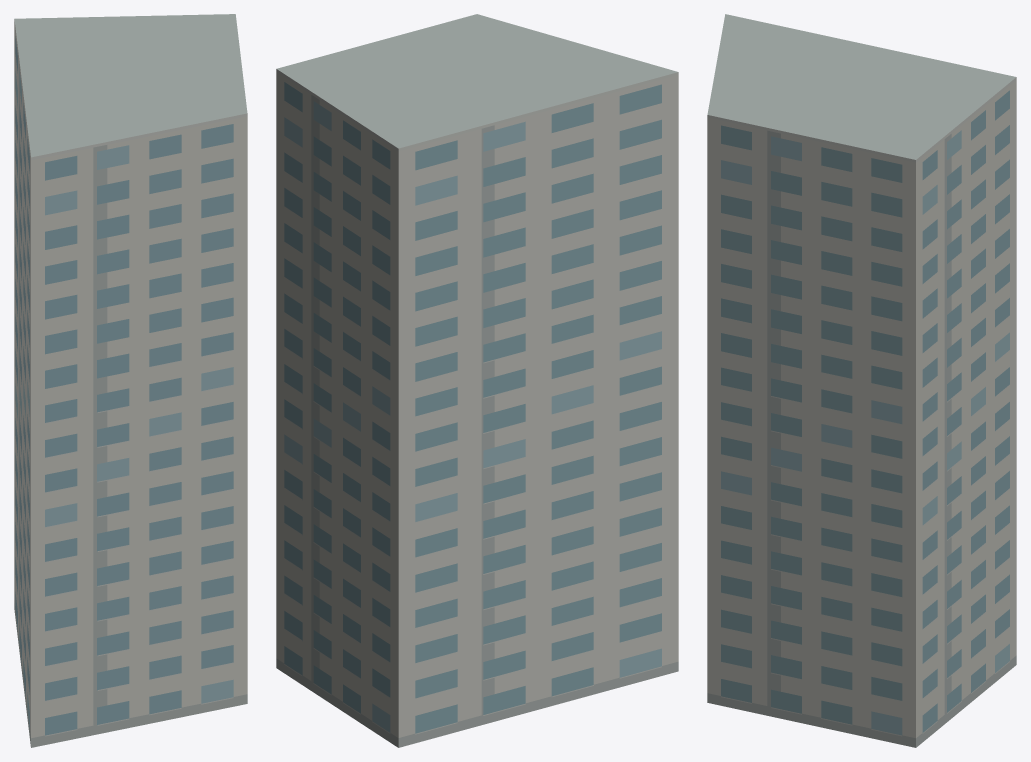
The model's file is residential-212beaba-1430-4b70-a2d1-97096592b359.glb.
3 renders of one model, left to right at view 1: azimuth 30°, elevation 25°; view 2: azimuth 150°, elevation 25°; view 3: azimuth 270°, elevation 25°, orthographic.
Parts seen in each view (by area): view 1: residential-212beaba-1430-4b70-a2d1-97096592b359.tmp; view 2: residential-212beaba-1430-4b70-a2d1-97096592b359.tmp; view 3: residential-212beaba-1430-4b70-a2d1-97096592b359.tmp.
Boxes of the visible parts, x1,y1,x2,y2 form: residential-212beaba-1430-4b70-a2d1-97096592b359.tmp: (14, 14, 247, 747); residential-212beaba-1430-4b70-a2d1-97096592b359.tmp: (276, 14, 678, 747); residential-212beaba-1430-4b70-a2d1-97096592b359.tmp: (707, 14, 1016, 747).
Size of the model in its own units: 27.17 by 51 by 24.31.
